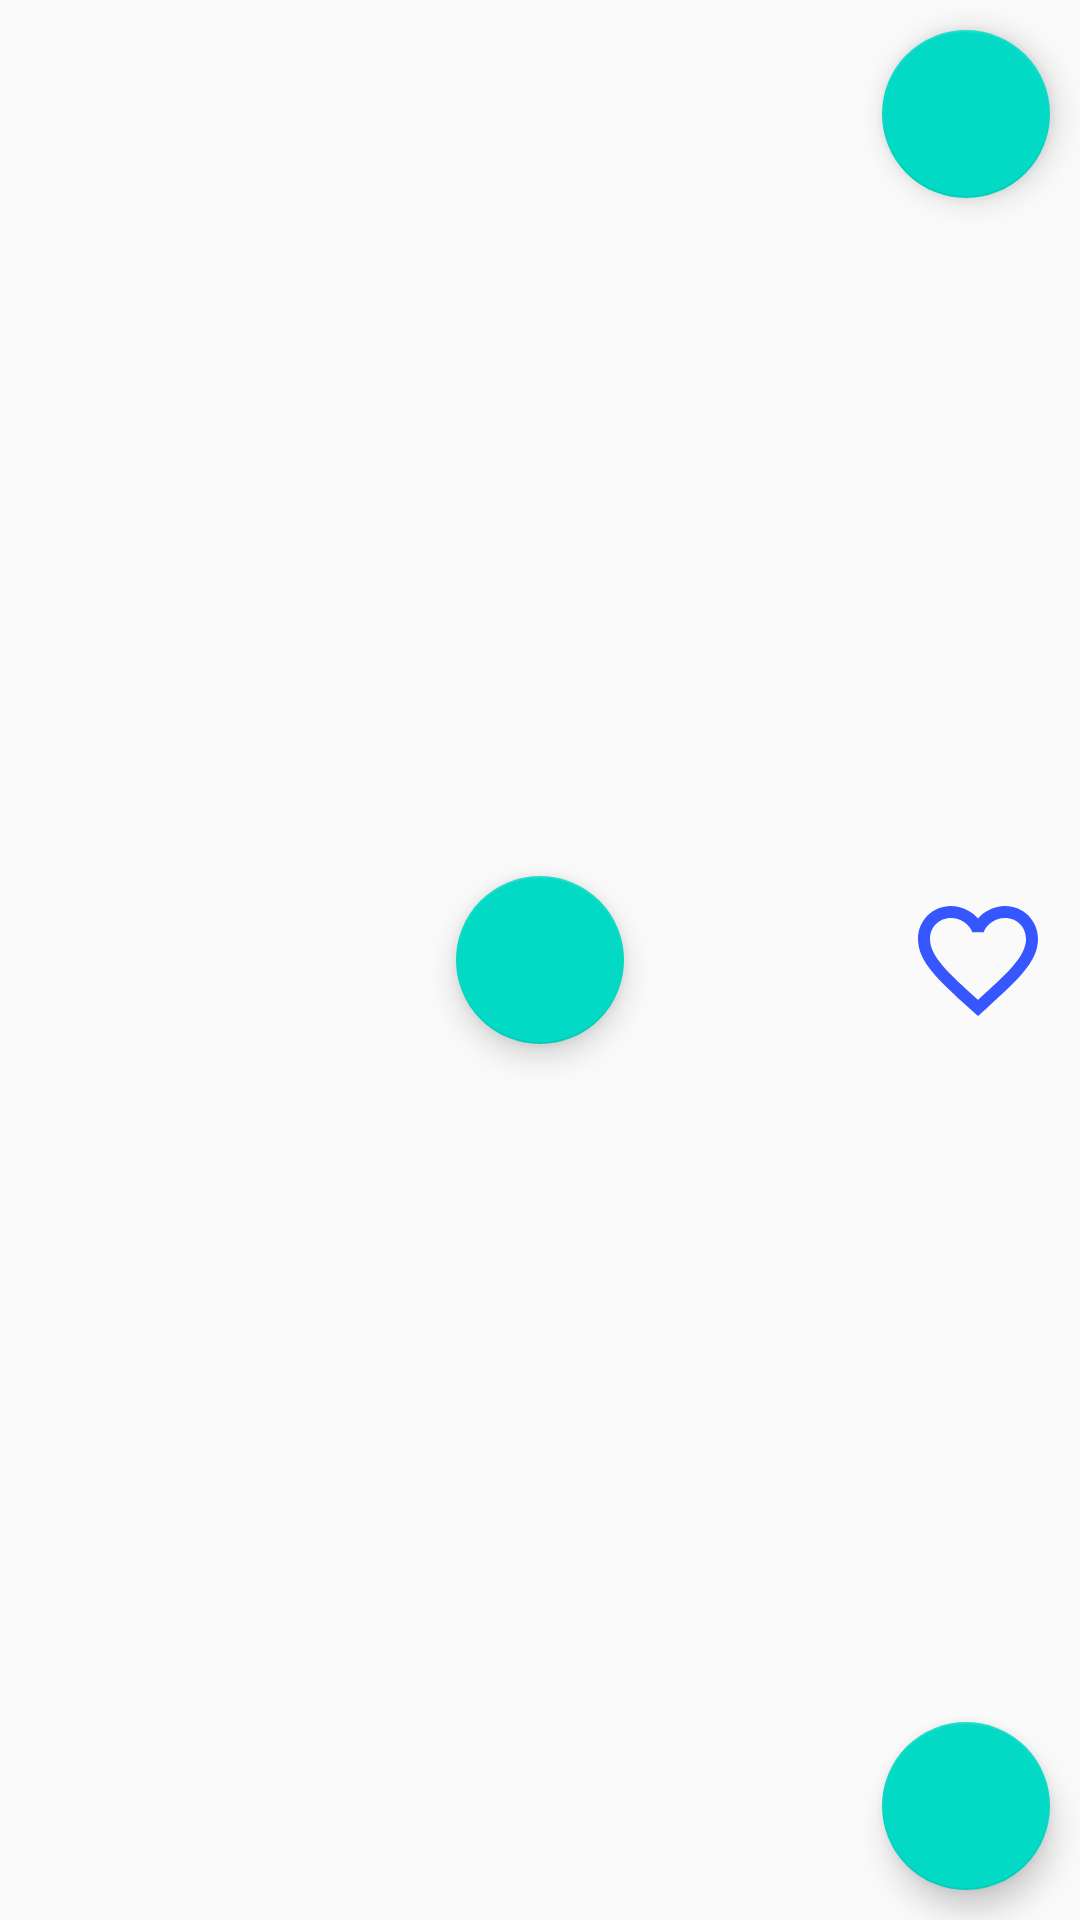

Icons on this 1080w x 1920h Android screen, each with the point to tap as point (x, y):
favorite border: point (978, 961)
